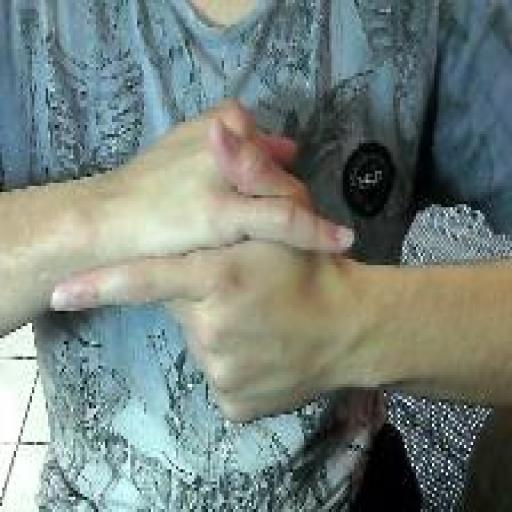U -hare-: (48, 90, 357, 428)
